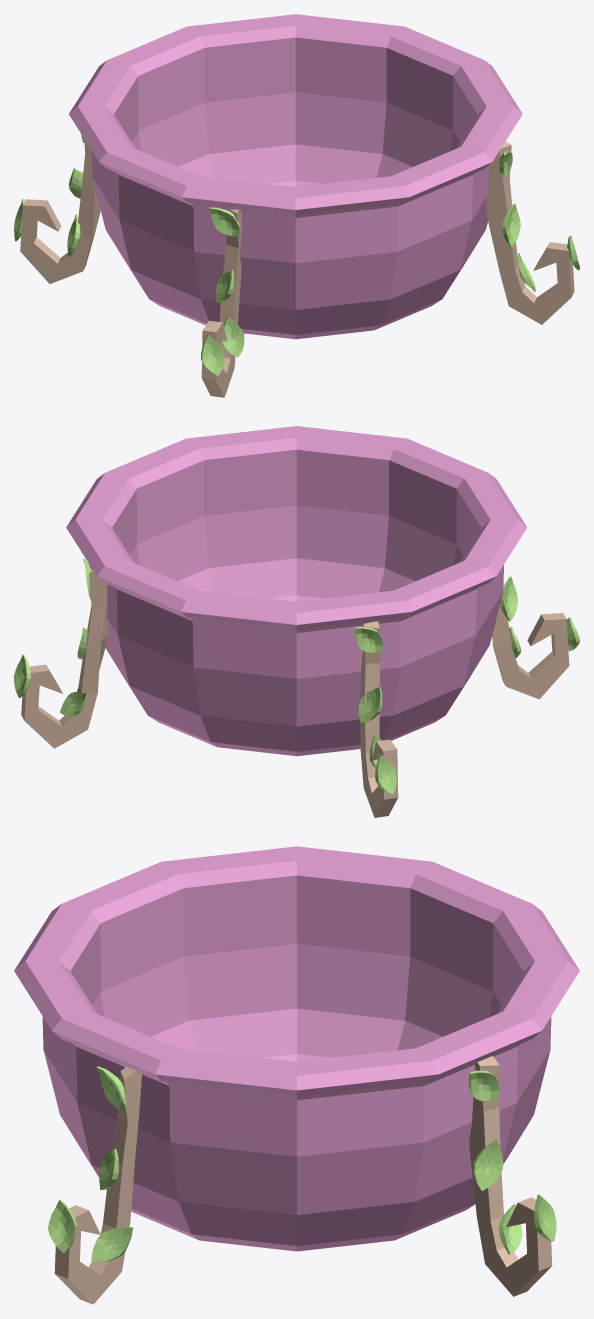
The model's file is cauldron.fbx.
3 views of the same model, one above another, from view 1: azimuth 30°, elevation 25°; view 2: azimuth 150°, elevation 25°; view 3: azimuth 270°, elevation 25° (orthographic). The views are drawn at different scales.
Parts seen in each view (by area): view 1: cauldron; view 2: cauldron; view 3: cauldron.
Part boxes in pixels (<box>): cauldron: <box>14,14,579,397</box>; cauldron: <box>14,426,579,817</box>; cauldron: <box>14,846,579,1304</box>.
Size of the model in its own units: 217 by 102 by 217.
